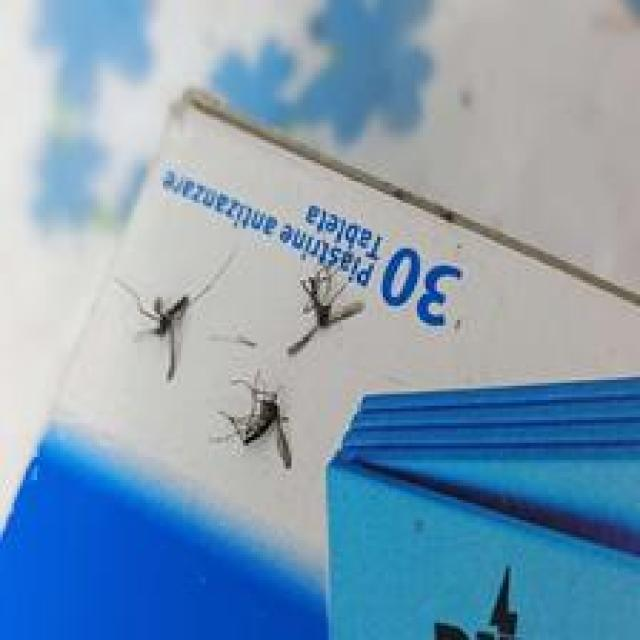Aedes albopictus: (113, 249, 238, 380)
